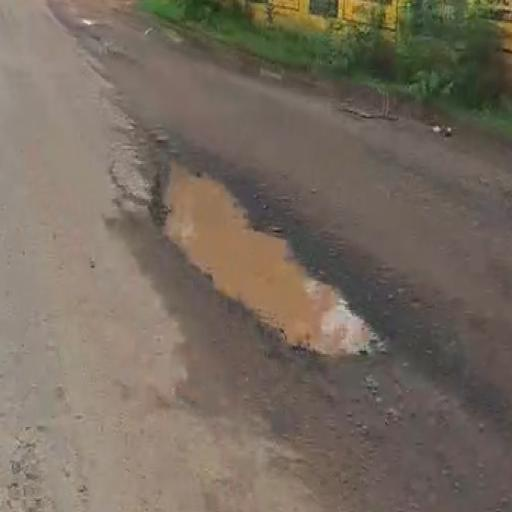edge_damage: (117, 70, 409, 437)
